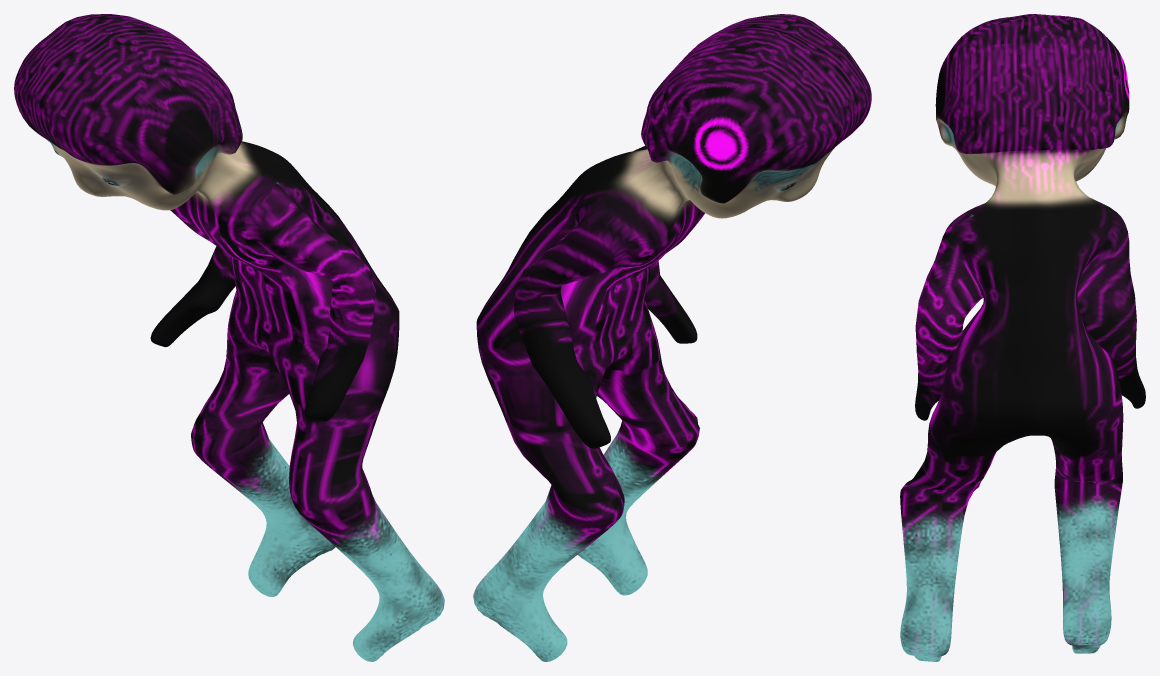
File: SittingCharacter.fbx
The picture shows the model from 3 angles, left to right: view 1: azimuth 30°, elevation 25°; view 2: azimuth 150°, elevation 25°; view 3: azimuth 270°, elevation 25°; orthographic projection. The views are drawn at different scales.
Parts seen in each view (by area): view 1: Character_Mesh; view 2: Character_Mesh; view 3: Character_Mesh.
Part boxes in pixels (left/top/right/bottom): Character_Mesh: left=14, top=14, right=444, bottom=661; Character_Mesh: left=473, top=14, right=871, bottom=661; Character_Mesh: left=900, top=14, right=1145, bottom=661.
Bounding box in the file's own units: 17.42 × 30.34 × 12.11.
